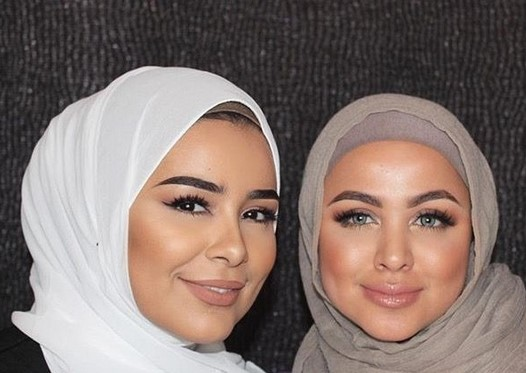face_no_mask: (310, 116, 489, 347), (119, 98, 283, 348)
